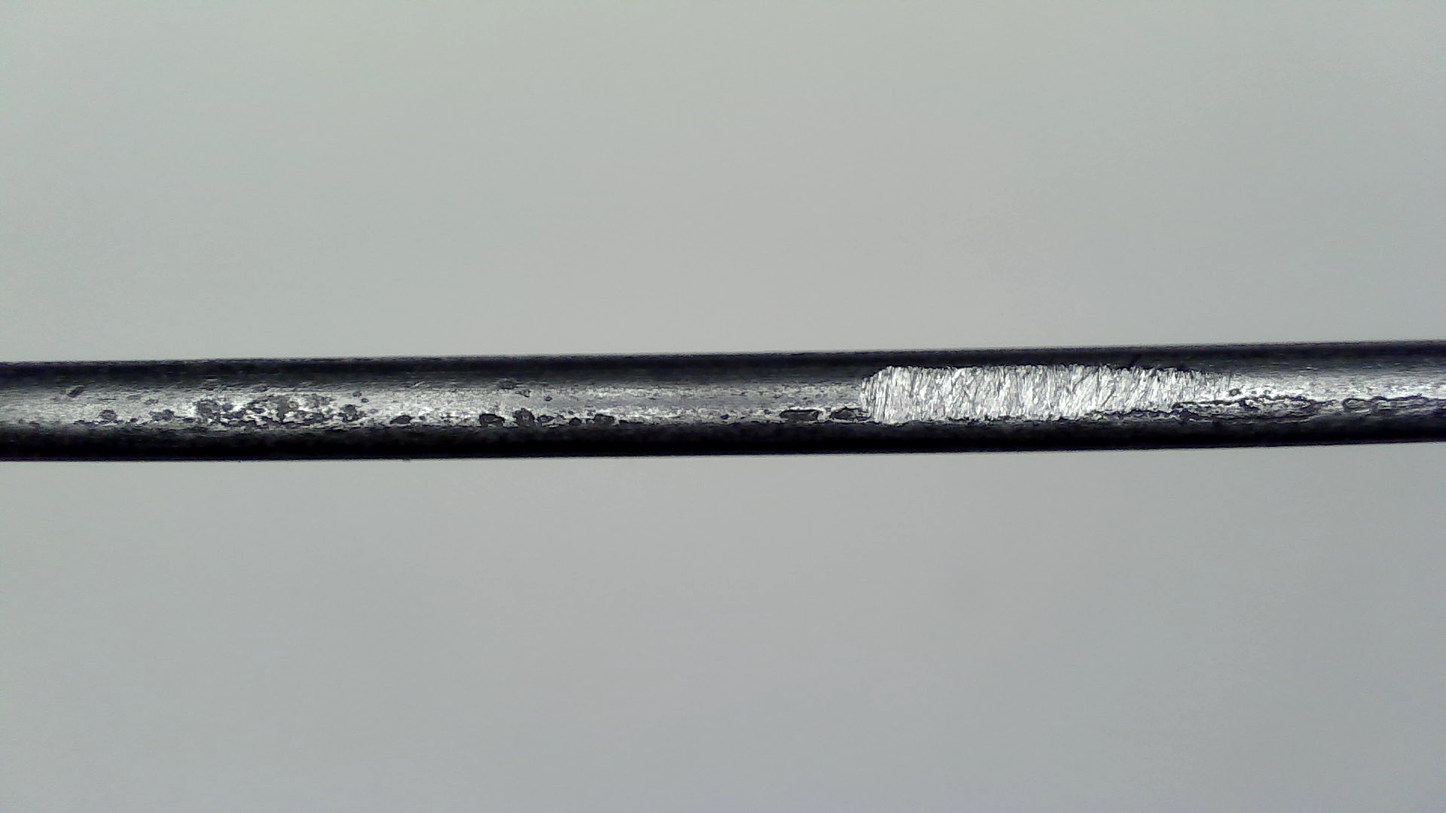defect: (860, 365, 1213, 421)
